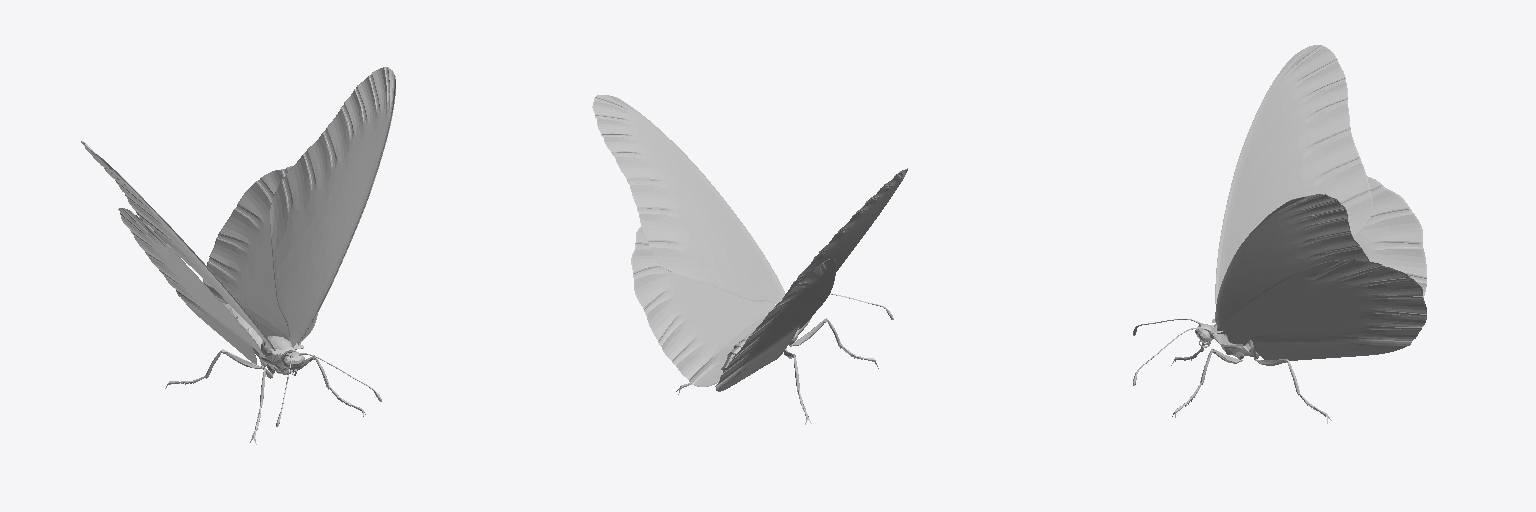
The model's file is butterfly_yellow.obj.
3 views of the same model, side by side, from view 1: azimuth 30°, elevation 25°; view 2: azimuth 150°, elevation 25°; view 3: azimuth 270°, elevation 25° (orthographic).
Parts seen in each view (by area): view 1: batterfly_yellow; view 2: batterfly_yellow; view 3: batterfly_yellow.
Boxes of the visible parts, <box> form: batterfly_yellow: <box>81,67,395,444</box>; batterfly_yellow: <box>592,95,907,424</box>; batterfly_yellow: <box>1133,45,1426,423</box>.
Size of the model in its own units: 111 by 94.9 by 92.6.